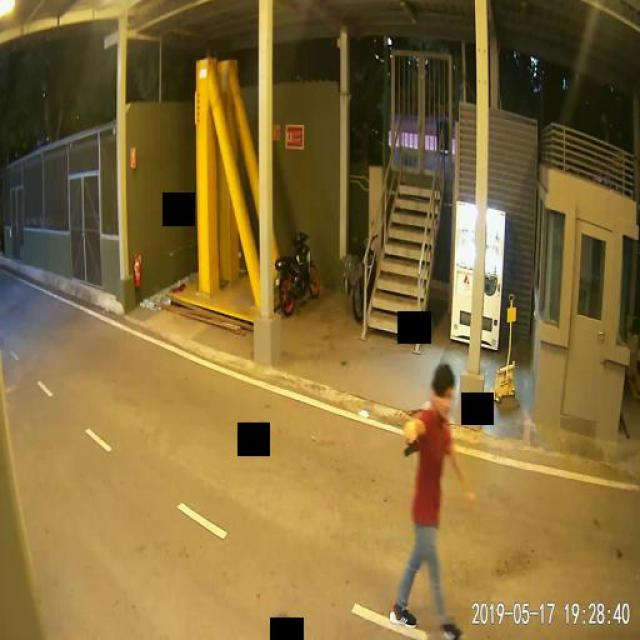gun: (401, 423, 420, 455)
